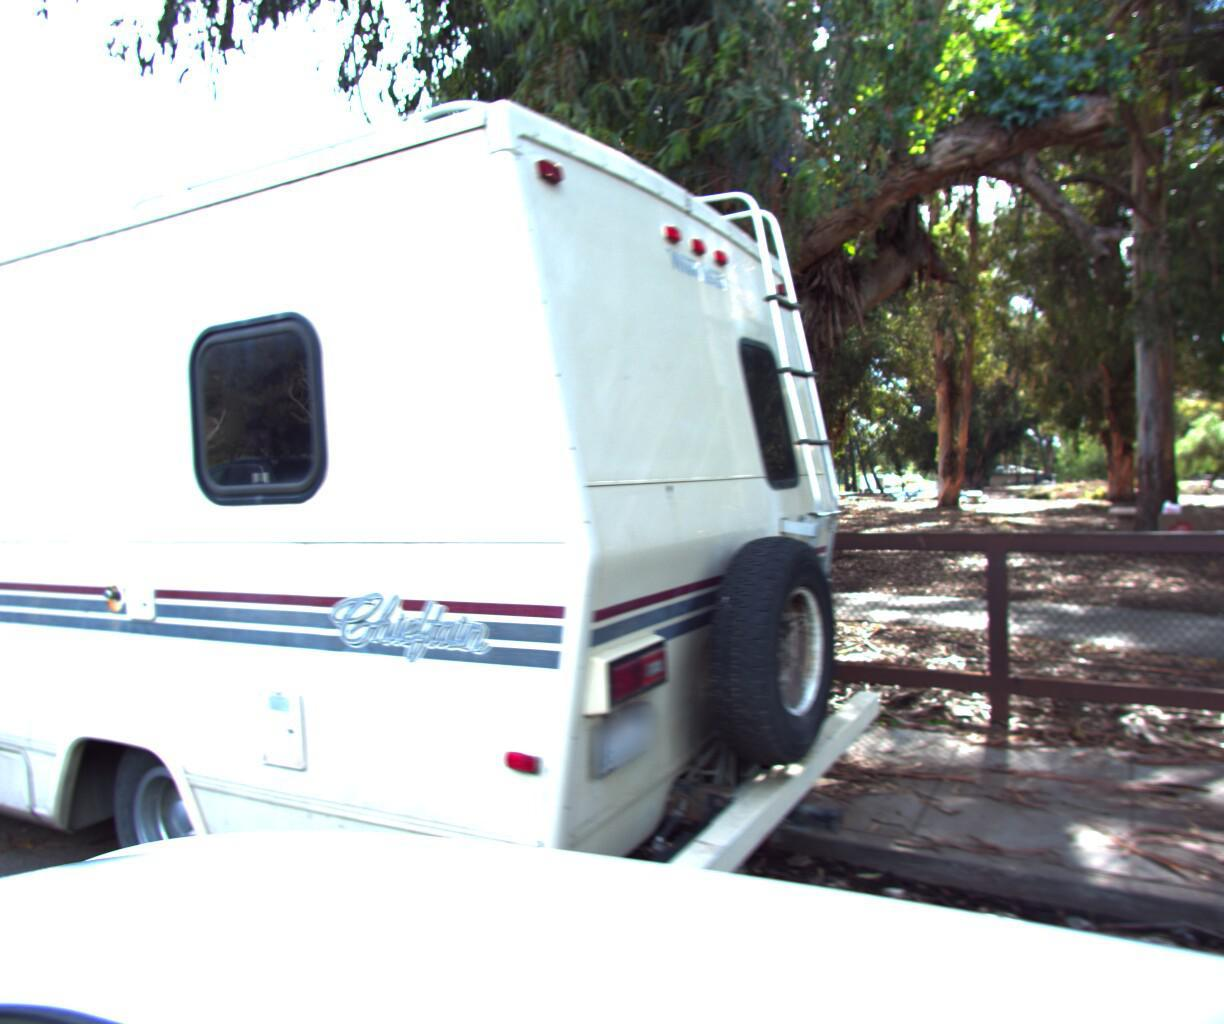car: (0, 0, 918, 1024)
